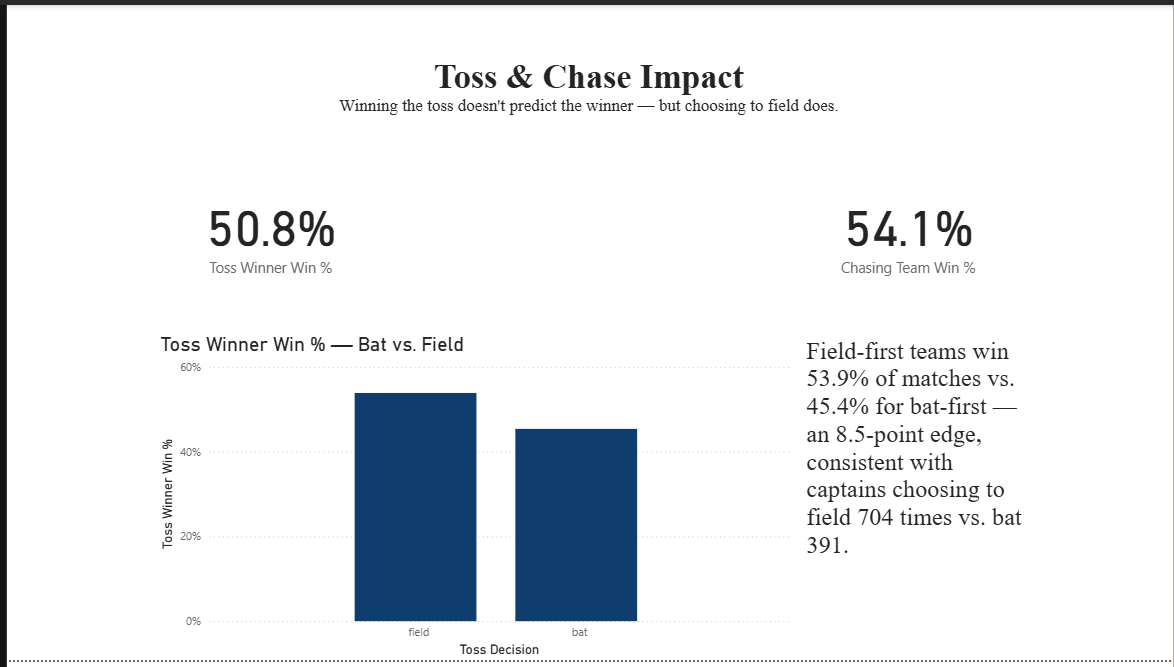

This screenshot's page, from the dashboard's own definition file:
{"tool":"powerbi","page":{"name":"Toss & Chase Impact","canvas":[1280,720],"ordinal":1},"visuals":[{"type":"card","fields":{"Values":["public matches.Toss Winner Win %"]},"box":[149.6,138.6,279.9,220.9],"z":0},{"type":"card","fields":{"Values":["public matches.Chasing Team Win %"]},"box":[849.4,138.6,279.9,220.9],"z":1000},{"type":"clusteredColumnChart","title":"Toss Winner Win % — Bat vs. Field","fields":{"Category":["public matches.toss_decision"],"Y":["public matches.Toss Winner Win %"]},"box":[163.3,359.5,699.8,360.9],"z":2000},{"type":"textbox","box":[130.4,34.3,1016.8,104.3],"z":3000},{"type":"textbox","box":[872.7,359.5,256.6,308.7],"z":4000}]}

Visuals, with their boxes in screenshot pixels (x1, y1, x2, y2), scaled from the page's 1280x720 canvas onto the 1174x667 screenshot:
card - public matches.Toss Winner Win %: l=137, t=128, r=394, b=333
card - public matches.Chasing Team Win %: l=779, t=128, r=1036, b=333
"Toss Winner Win % — Bat vs. Field" clusteredColumnChart: l=150, t=333, r=792, b=666
textbox: l=120, t=32, r=1052, b=128
textbox: l=800, t=333, r=1036, b=619
